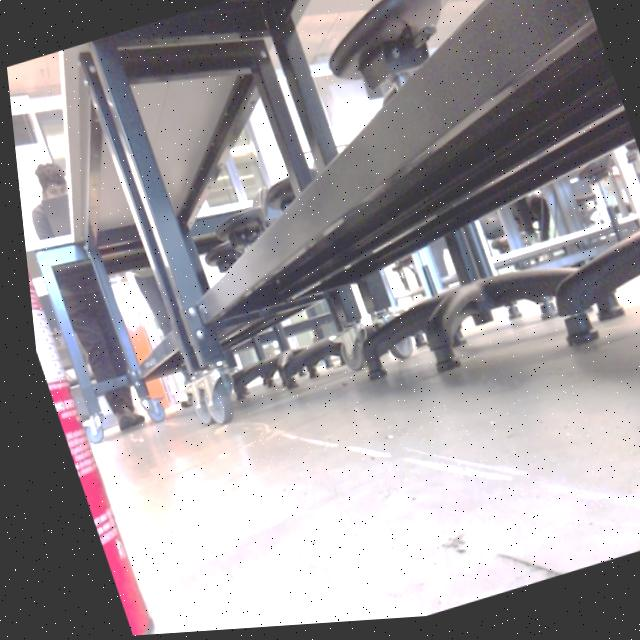redpringles: (10, 111, 174, 640)
